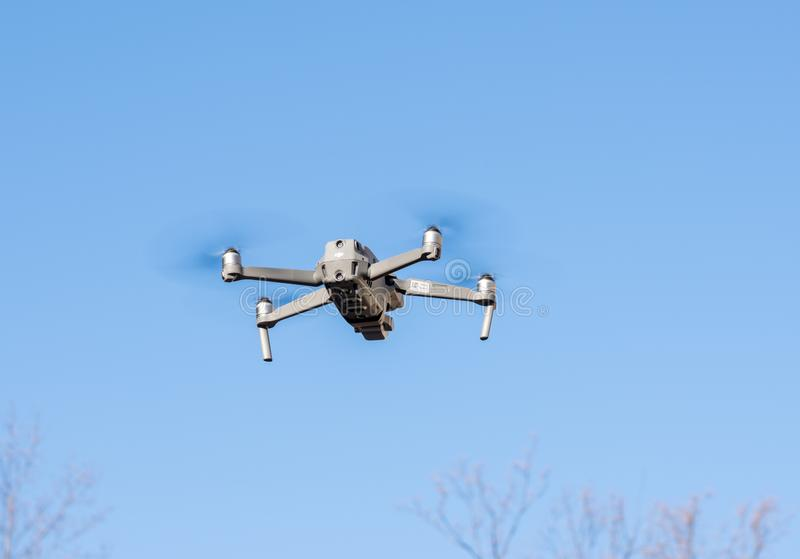drone: (218, 213, 500, 365)
